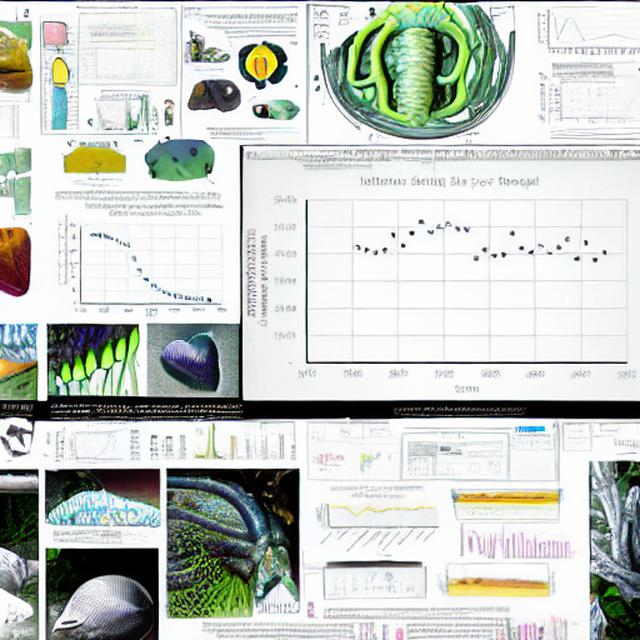Graph: (257, 172, 640, 394), (60, 201, 233, 322), (312, 483, 442, 559), (535, 3, 634, 59), (546, 79, 628, 126), (495, 520, 570, 565), (66, 431, 126, 467), (89, 46, 145, 83)
